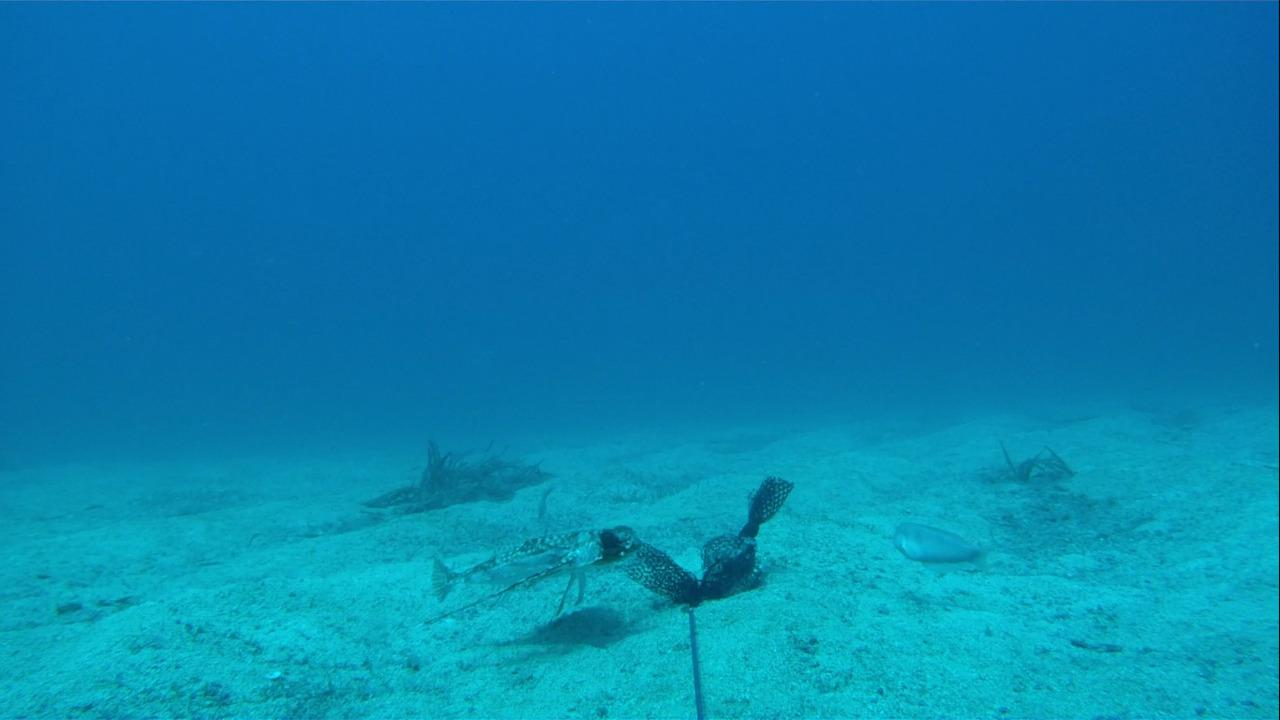dactylopterus: (421, 489, 642, 624)
raor: (884, 511, 992, 572)
